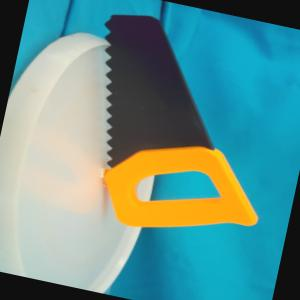serrote: (64, 6, 294, 250)
